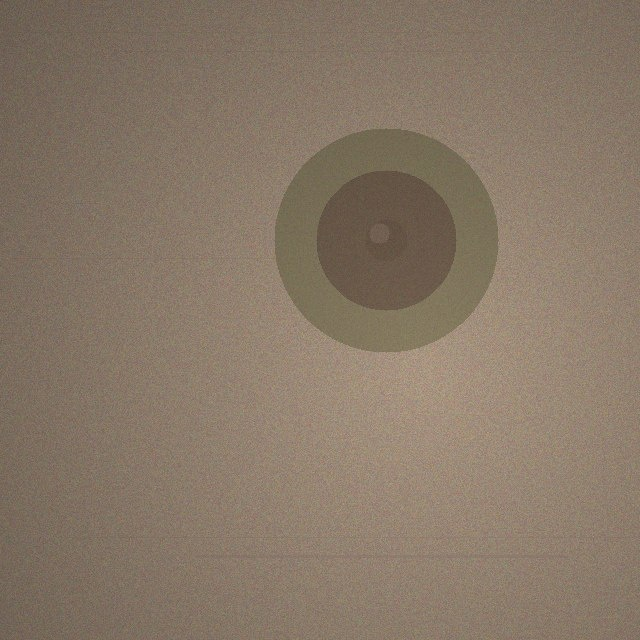good: (274, 128, 498, 352)
